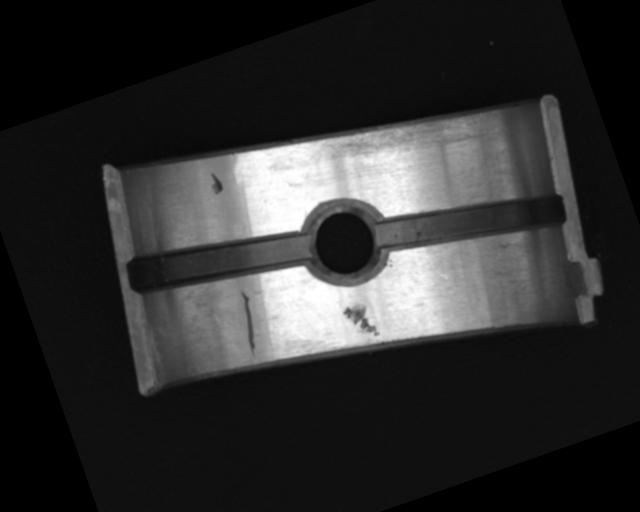bruise: (340, 297, 383, 344), (205, 169, 225, 197)
gap: (370, 161, 569, 282), (124, 203, 314, 316)
hole: (291, 186, 395, 292)
nick: (229, 288, 268, 359)
scratch: (314, 88, 481, 189)
